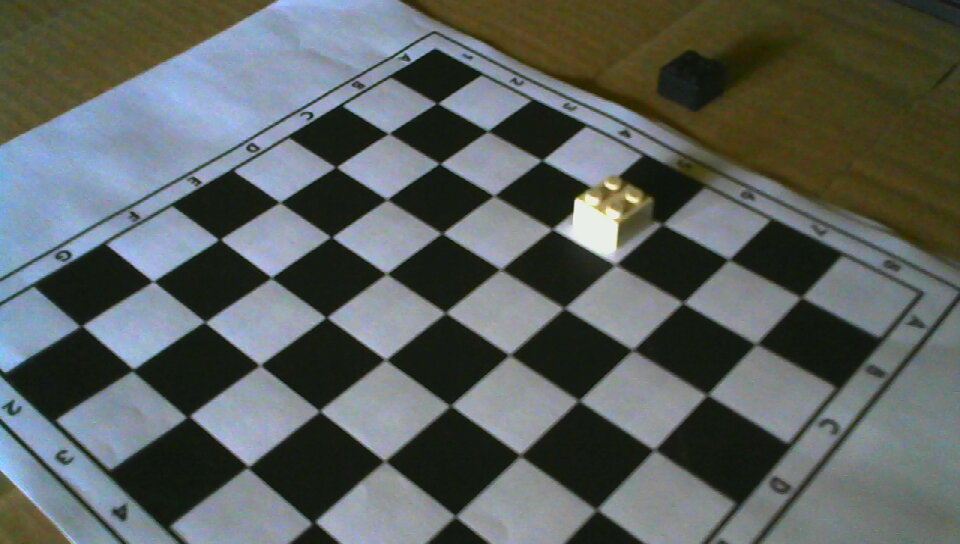bp: (659, 48, 729, 111)
wp: (573, 175, 653, 250)
